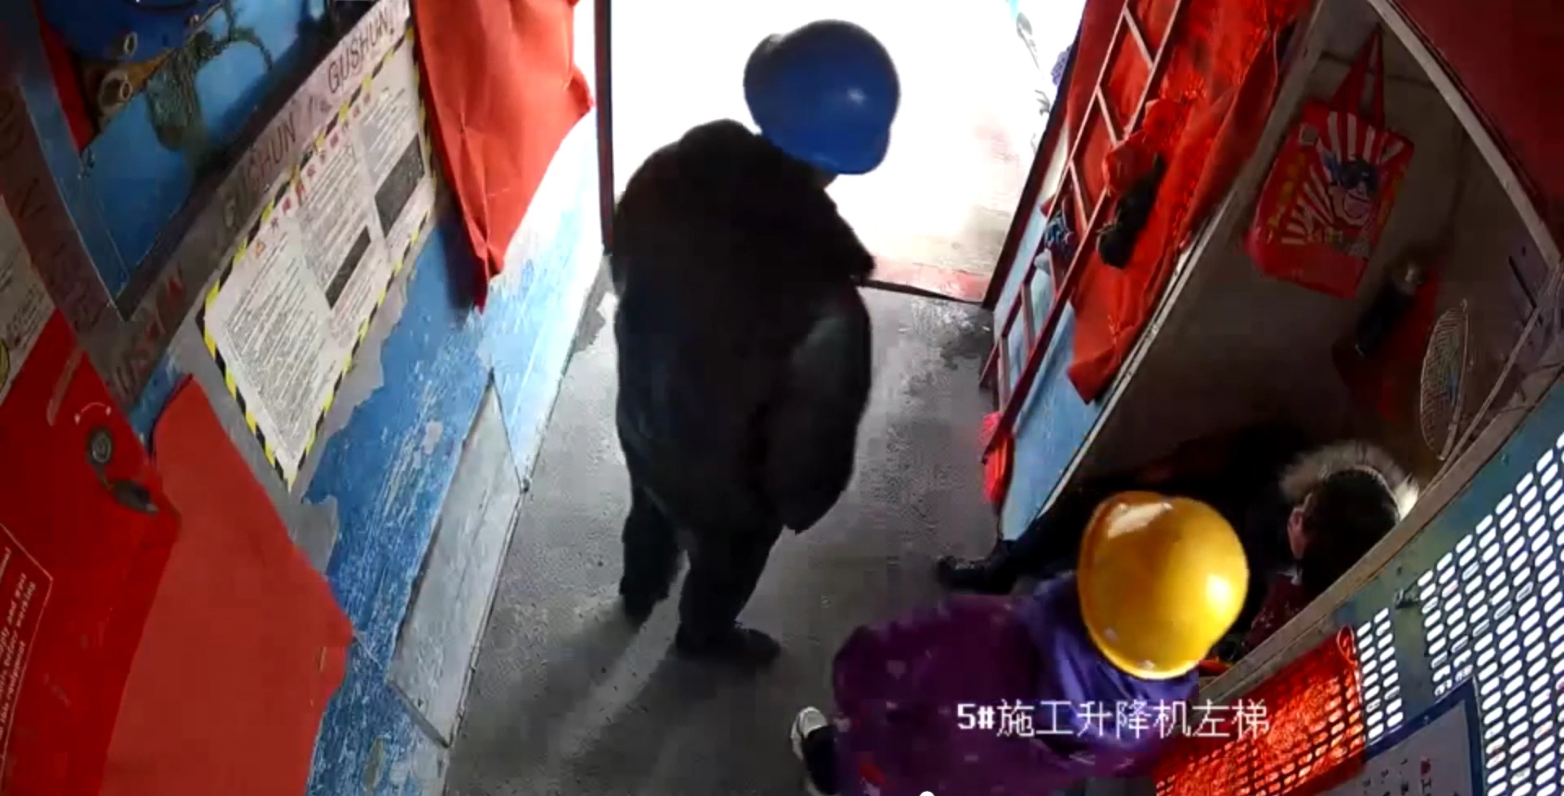person: (598, 24, 908, 664), (783, 487, 1251, 796)
